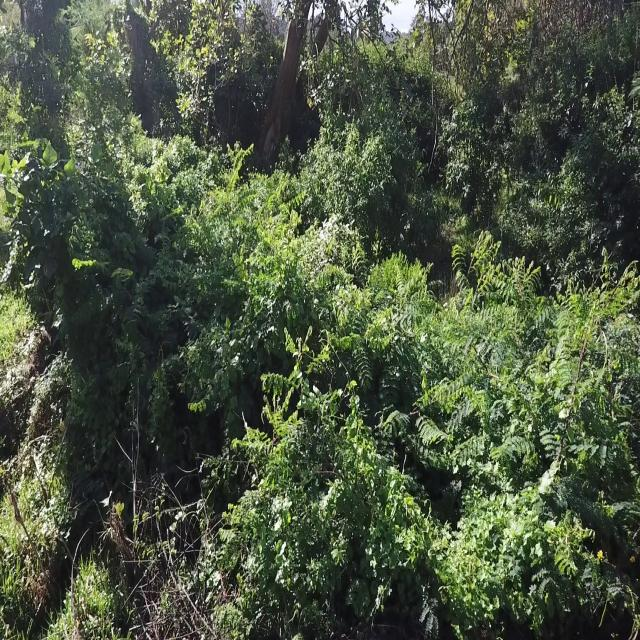Mysore-Thorn-Weed: (542, 230, 636, 503), (230, 306, 332, 500), (366, 258, 451, 484), (438, 222, 554, 356), (211, 144, 258, 279), (258, 166, 302, 308), (70, 228, 98, 314)
